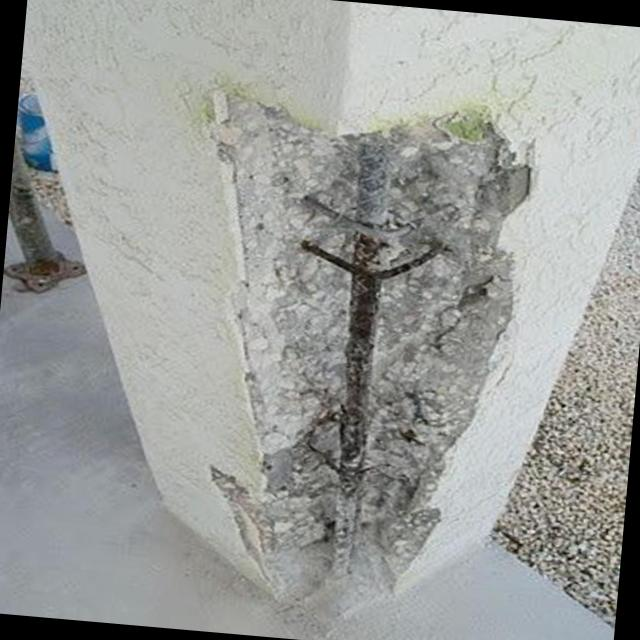spalling: (209, 94, 530, 633)
